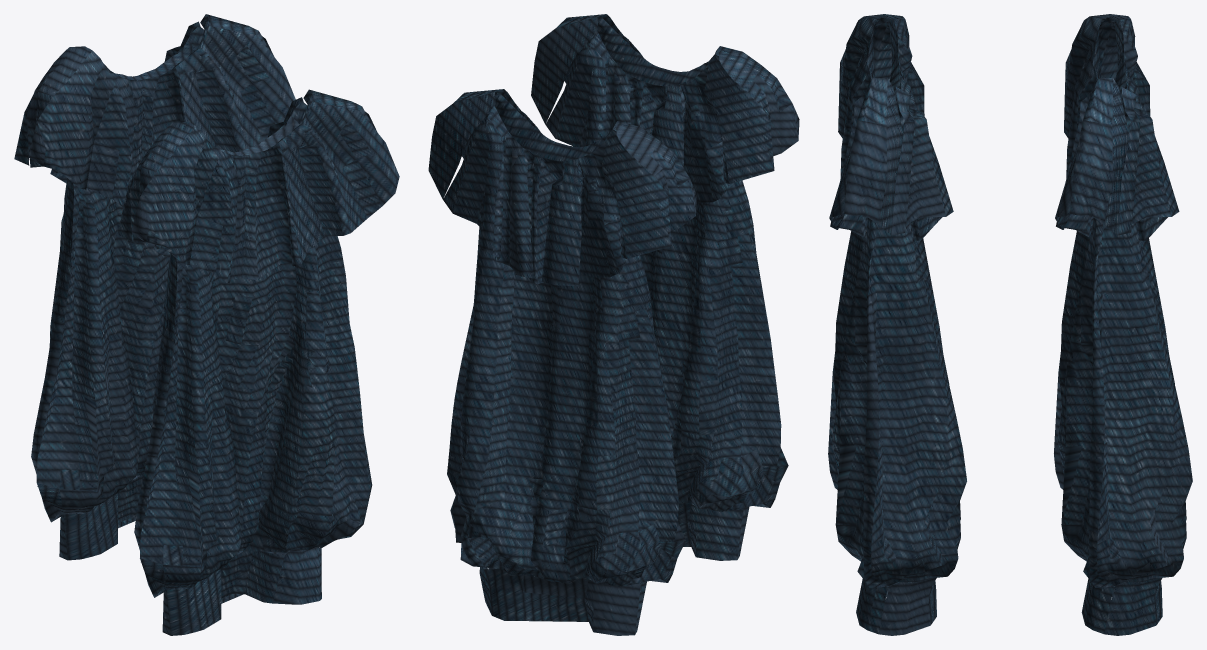
File: yifu11_04.fbx
3 views of the same model, side by side, from view 1: azimuth 30°, elevation 25°; view 2: azimuth 150°, elevation 25°; view 3: azimuth 270°, elevation 25° (orthographic). The views are drawn at different scales.
Visible parts, largest first — view 1: yifu11_04; view 2: yifu11_04; view 3: yifu11_04.
Part boxes in pixels (box(x1,y1,x2,y2)): yifu11_04: box(14, 14, 399, 635); yifu11_04: box(428, 14, 799, 635); yifu11_04: box(828, 14, 1192, 635).
Size of the model in its own units: 53.79 by 100 by 59.52.
